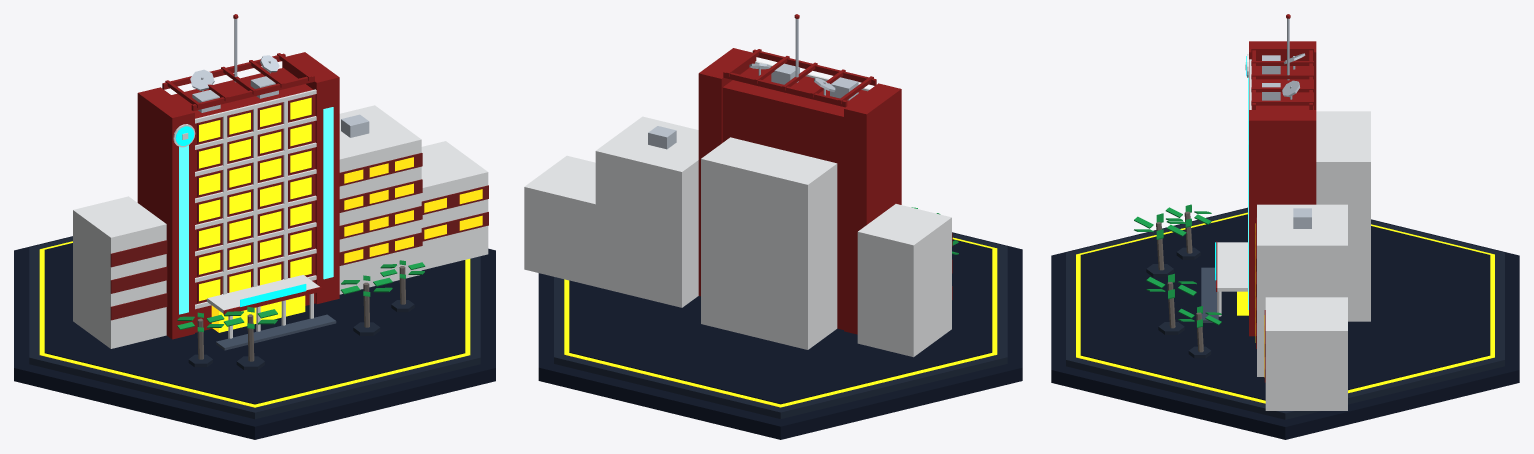
3 renders of one model, left to right at view 1: azimuth 30°, elevation 25°; view 2: azimuth 150°, elevation 25°; view 3: azimuth 270°, elevation 25°, orthographic. The views are drawn at different scales.
Parts seen in each view (by area): view 1: Cylinder.003, Cylinder, IU_Wing_Left, IU_Wing_5_Floors, IU_Pylon_Tower_Left, Cylinder.001, IU_Wing_3_Floors, IU_Central_Crimson_Core, IU_Pylon_Tower_Right, Cylinder.002, Cube.069, Cube.067 (+27 smaller); view 2: Cylinder.003, IU_Wing_Rear, IU_Wing_5_Floors, Cylinder, IU_Wing_Left, IU_Central_Crimson_Core, IU_Pylon_Tower_Left, IU_Wing_3_Floors, Cylinder.001, IU_Pylon_Tower_Right, Cylinder.002, Cube.096 (+2 smaller); view 3: Cylinder.003, Cylinder, IU_Wing_3_Floors, IU_Wing_5_Floors, Cylinder.001, IU_Wing_Rear, IU_Pylon_Tower_Right, Cylinder.002, IU_Entrance_Canopy, IU_Central_Crimson_Core, IU_Pylon_Tower_Left, Cube.108.
Boxes of the visible parts, box(x1,y1,x2,y2) form: Cylinder.003: box(44, 243, 465, 404); Cylinder: box(14, 236, 495, 439); IU_Wing_Left: box(73, 196, 166, 348); IU_Wing_5_Floors: box(339, 105, 421, 294); IU_Pylon_Tower_Left: box(137, 87, 194, 339); Cylinder.001: box(29, 237, 480, 419); IU_Wing_3_Floors: box(421, 141, 488, 270); IU_Central_Crimson_Core: box(171, 68, 315, 332); IU_Pylon_Tower_Right: box(282, 52, 339, 303); Cylinder.002: box(39, 241, 470, 407); Cube.069: box(323, 107, 333, 279); Cube.067: box(179, 145, 188, 314); Cylinder.003: box(569, 239, 992, 404); IU_Wing_Rear: box(701, 137, 837, 349); IU_Wing_5_Floors: box(595, 116, 698, 307); Cylinder: box(538, 232, 1022, 439); IU_Wing_Left: box(857, 204, 951, 357); IU_Central_Crimson_Core: box(722, 67, 866, 329); IU_Pylon_Tower_Left: box(844, 83, 901, 334); IU_Wing_3_Floors: box(524, 155, 595, 286); Cylinder.001: box(554, 233, 1007, 418); IU_Pylon_Tower_Right: box(698, 48, 756, 296); Cylinder.002: box(564, 237, 997, 407); Cube.096: box(723, 71, 847, 107); Cylinder.003: box(1080, 214, 1490, 400); Cylinder: box(1051, 207, 1519, 439); IU_Wing_3_Floors: box(1265, 297, 1347, 410); IU_Wing_5_Floors: box(1257, 204, 1347, 376); Cylinder.001: box(1066, 208, 1504, 419); IU_Wing_Rear: box(1316, 111, 1370, 321); IU_Pylon_Tower_Right: box(1249, 110, 1316, 336); Cylinder.002: box(1076, 212, 1494, 403); IU_Entrance_Canopy: box(1217, 242, 1247, 291); IU_Central_Crimson_Core: box(1251, 66, 1313, 109); IU_Pylon_Tower_Left: box(1249, 41, 1316, 109); Cube.108: box(1201, 267, 1218, 322).
Bounding box in the file's own units: 20 × 12.37 × 17.32.
